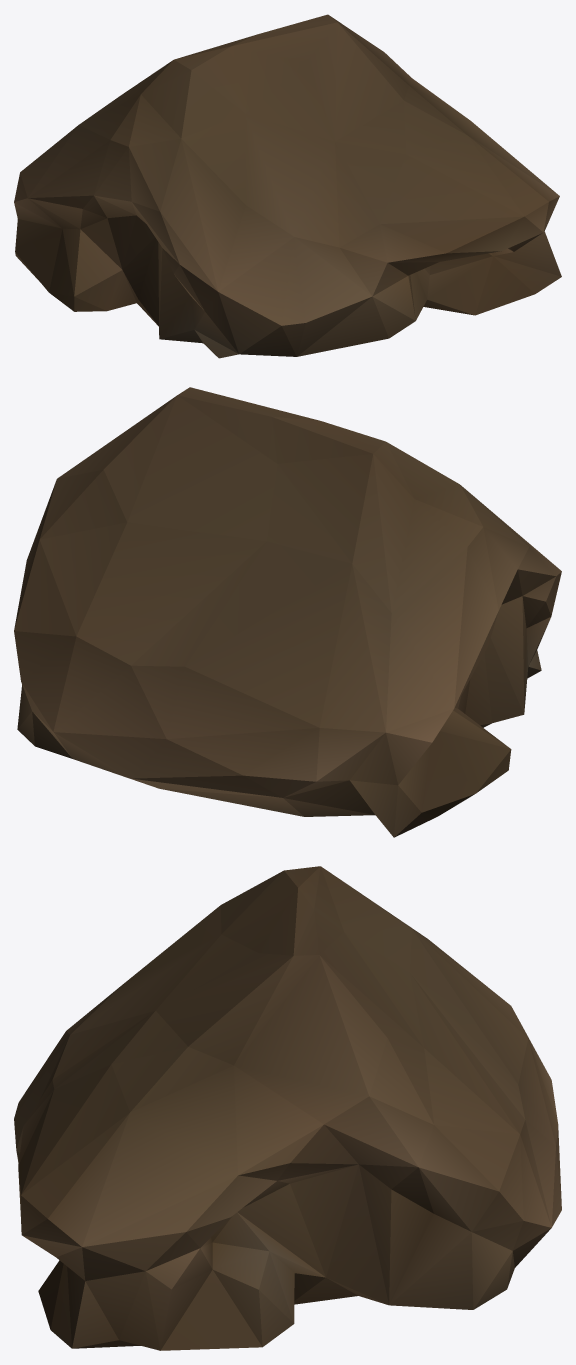
The model's file is lumber.glb.
3 views of the same model, one above another, from view 1: azimuth 30°, elevation 25°; view 2: azimuth 150°, elevation 25°; view 3: azimuth 270°, elevation 25° (orthographic). The views are drawn at different scales.
Parts seen in each view (by area): view 1: model.001; view 2: model.001; view 3: model.001.
Boxes of the visible parts, box(x1,y1,x2,y2) form: model.001: box(14, 14, 561, 358); model.001: box(14, 387, 561, 837); model.001: box(14, 866, 561, 1350).
Size of the model in its own units: 0.9975 by 0.5776 by 0.8908.
